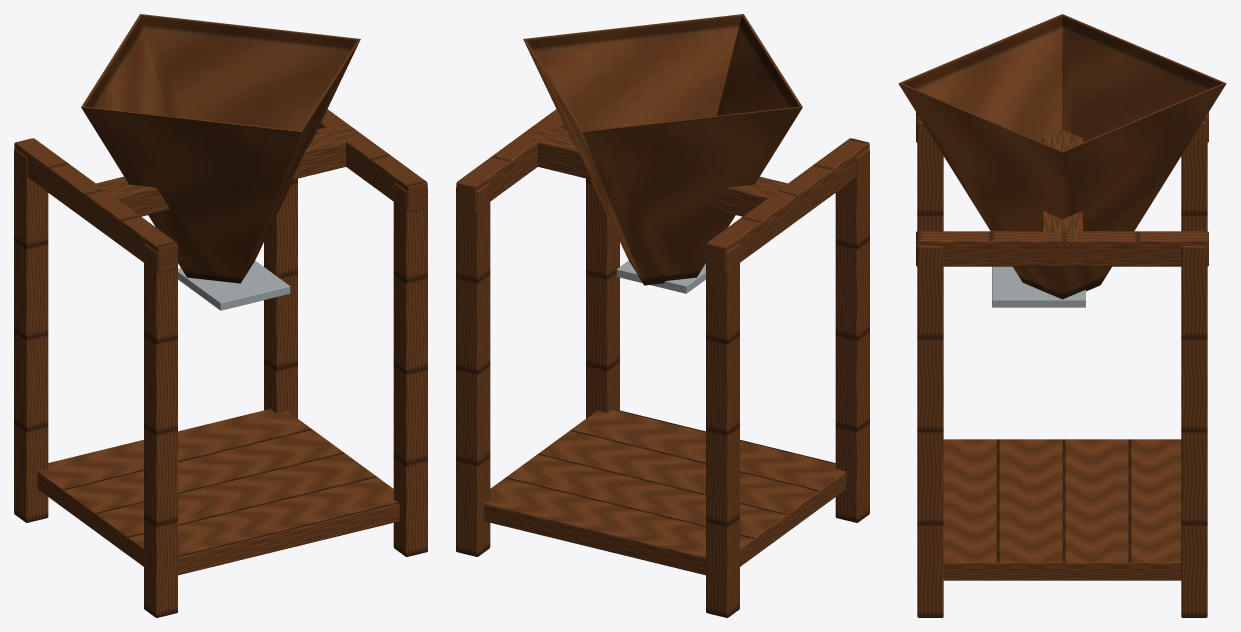
File: survival-food-and-preservation-grain-hopper-2610e77a__21800.glb
3 views of the same model, side by side, from view 1: azimuth 30°, elevation 25°; view 2: azimuth 150°, elevation 25°; view 3: azimuth 270°, elevation 25° (orthographic).
Parts seen in each view (by area): view 1: grain-hopper, slide/metal; view 2: grain-hopper, slide/metal; view 3: grain-hopper, slide/metal.
Boxes of the visible parts, x1=… form: grain-hopper: x1=14, y1=14, x2=427, y2=617; slide/metal: x1=178, y1=260, x2=290, y2=310; grain-hopper: x1=456, y1=14, x2=869, y2=617; slide/metal: x1=616, y1=260, x2=705, y2=293; grain-hopper: x1=898, y1=14, x2=1226, y2=617; slide/metal: x1=992, y1=266, x2=1085, y2=307.
Bounding box in the file's own units: 0.56 × 0.88 × 0.56.
Materials: 2 (1 with a texture image).
